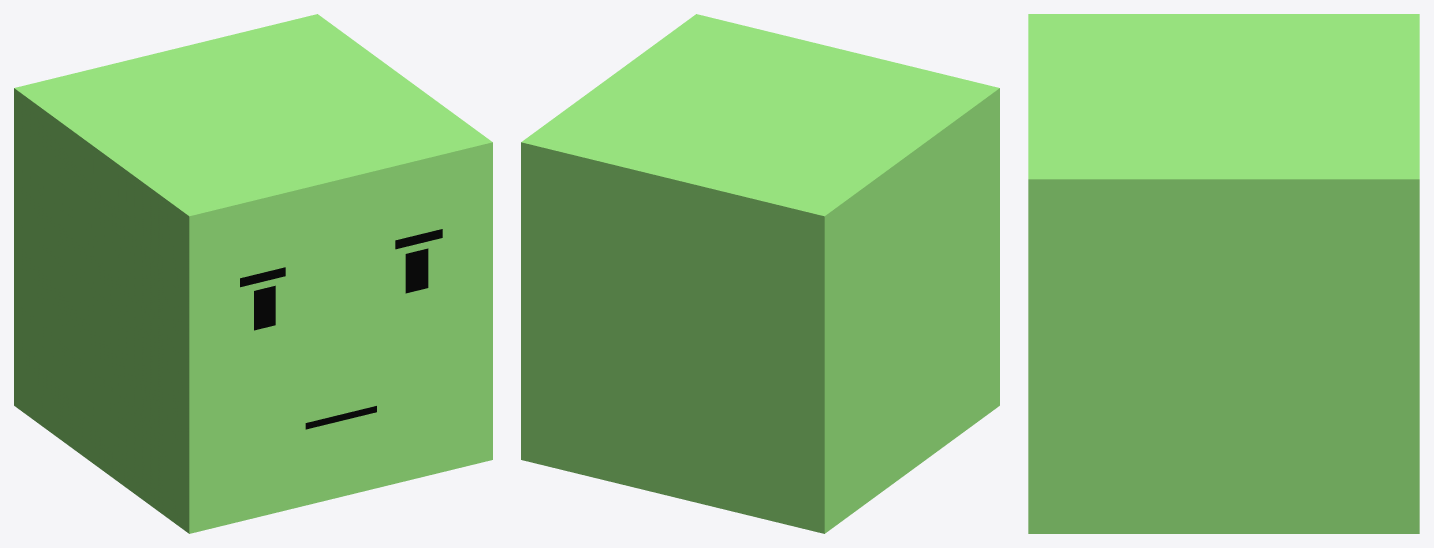
3 renders of one model, left to right at view 1: azimuth 30°, elevation 25°; view 2: azimuth 150°, elevation 25°; view 3: azimuth 270°, elevation 25°, orthographic. The views are drawn at different scales.
Visible parts, largest first — view 1: head; view 2: head; view 3: head.
Part boxes in pixels (x1=…): head: x1=14, y1=14, x2=492, y2=533; head: x1=521, y1=14, x2=999, y2=533; head: x1=1028, y1=14, x2=1419, y2=533.
Size of the model in its own units: 24 by 24 by 24.
